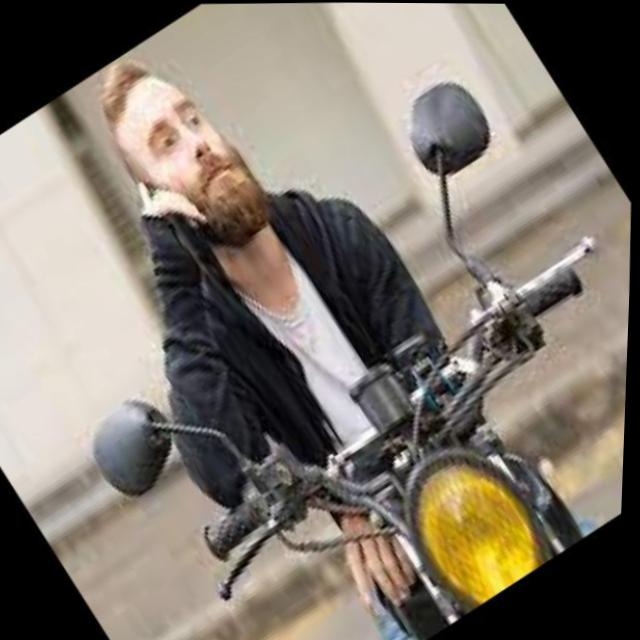USING_MOBILE: (32, 155, 351, 514)
